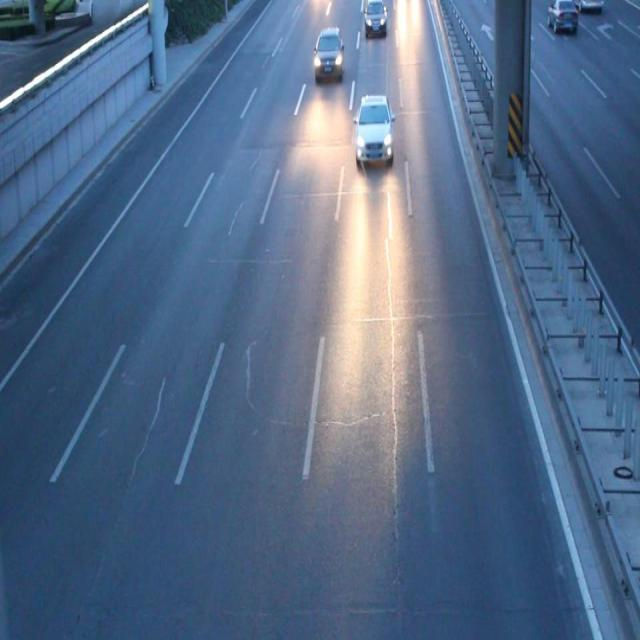car: (353, 95, 393, 168), (312, 28, 343, 80), (364, 1, 387, 38)
